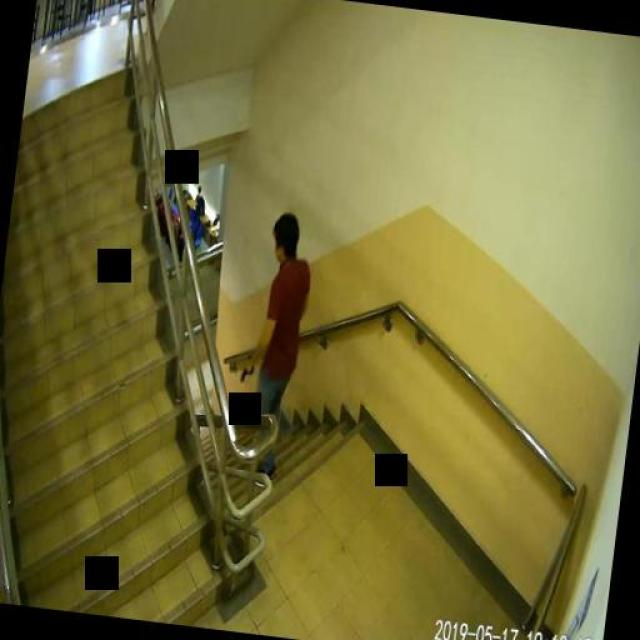gun: (238, 352, 254, 380)
